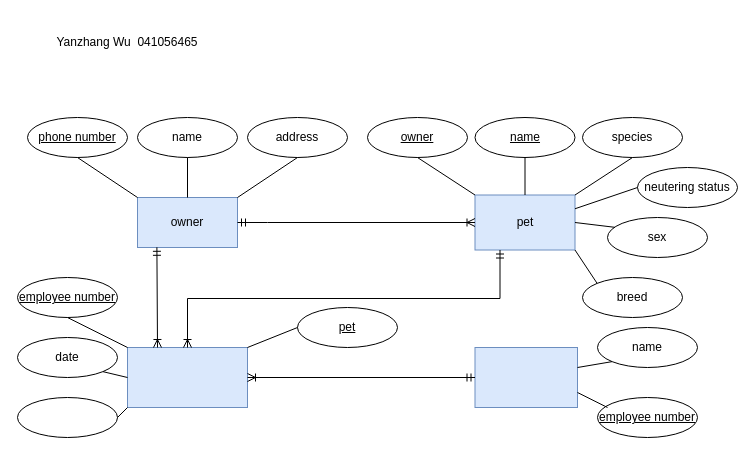
Some shapes in this 755 by 455 pixel diagram are drawn without their labels. The shapes that lost their labels are listed below. From the top down, each one's centre as x and y in pixels, then its label:
point (187, 377): visit
point (526, 377): staff
point (67, 417): reason
